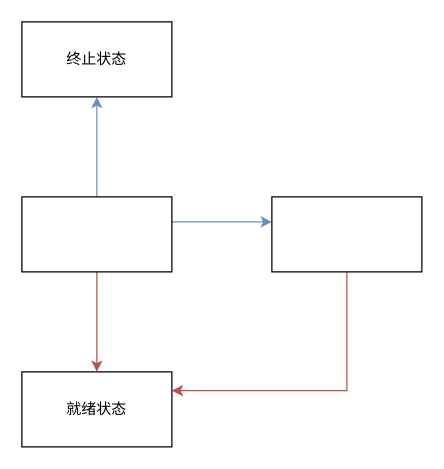
This 444x469 diagram has some shape labels left out. The centre of each missing label's shape, as x and y in pixels:
"等待状态" goes at pixel 346 234.
"运行状态" goes at pixel 96 234.
